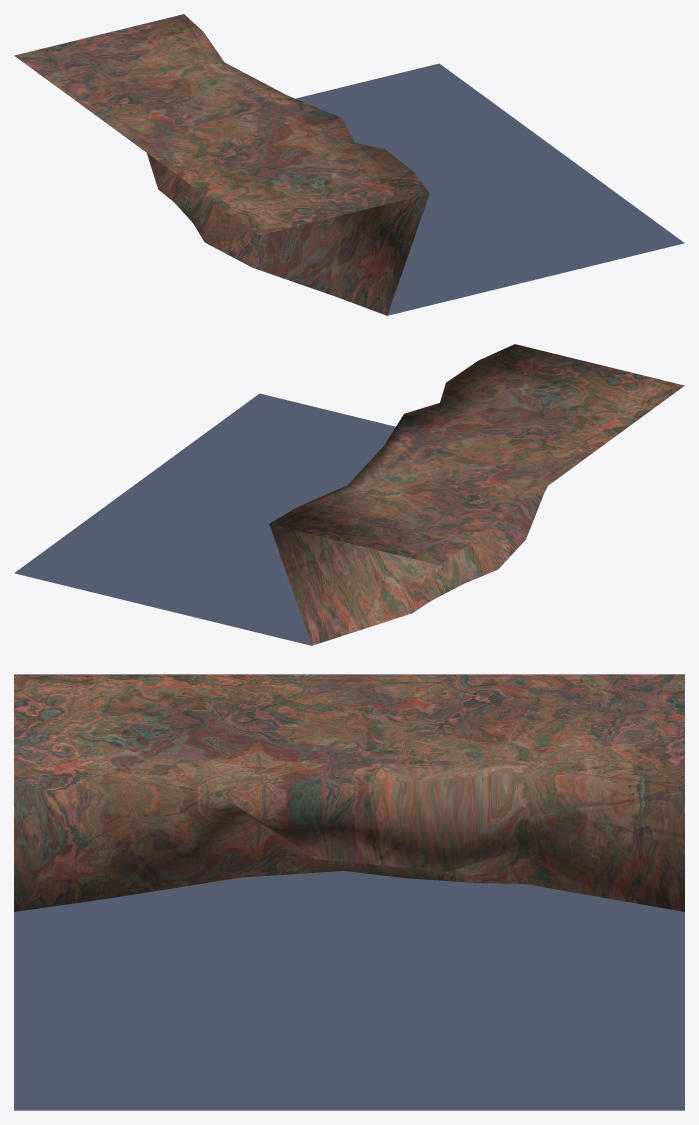
File: cave_water_edge1.glb
The picture shows the model from 3 angles, top to bottom: view 1: azimuth 30°, elevation 25°; view 2: azimuth 150°, elevation 25°; view 3: azimuth 270°, elevation 25°; orthographic projection. The views are drawn at different scales.
Visible parts, largest first — view 1: water_edge1; view 2: water_edge1; view 3: water_edge1.
Boxes of the visible parts, box(x1,y1,x2,y2) form: water_edge1: box(14, 14, 684, 315); water_edge1: box(14, 344, 684, 645); water_edge1: box(14, 674, 684, 1110).
Bounding box in the file's own units: 2 × 0.5187 × 2.
2 materials, 1 textured.
